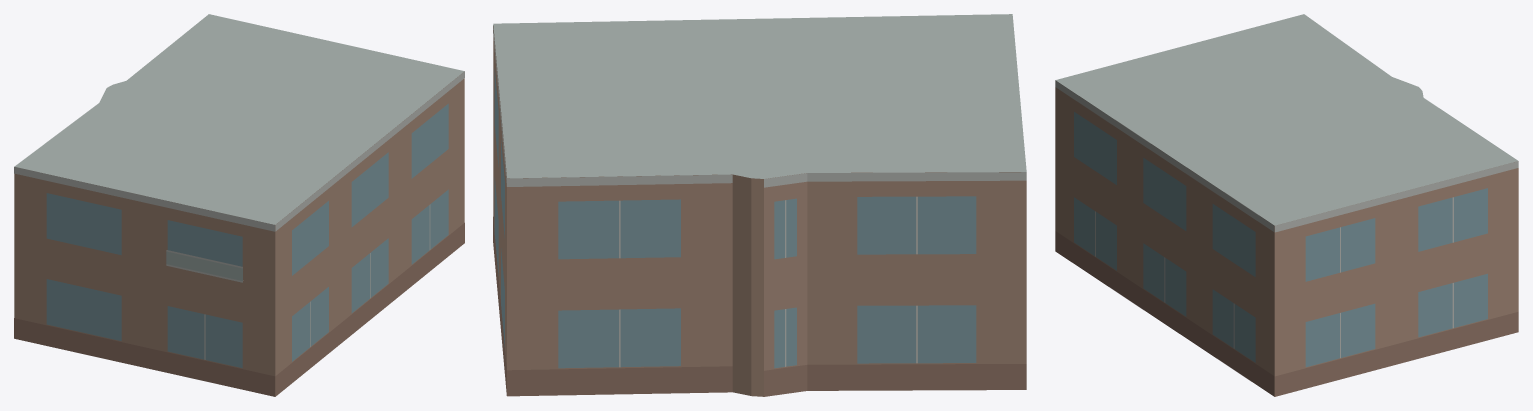
Rendered from survey-upis-32623857.glb.
3 renders of one model, left to right at view 1: azimuth 30°, elevation 25°; view 2: azimuth 150°, elevation 25°; view 3: azimuth 270°, elevation 25°, orthographic. The views are drawn at different scales.
Parts seen in each view (by area): view 1: survey-upis-32623857.tmp; view 2: survey-upis-32623857.tmp; view 3: survey-upis-32623857.tmp.
Part boxes in pixels (x1=…): survey-upis-32623857.tmp: x1=14, y1=14, x2=464, y2=396; survey-upis-32623857.tmp: x1=493, y1=14, x2=1026, y2=396; survey-upis-32623857.tmp: x1=1055, y1=14, x2=1518, y2=396.
Size of the model in its own units: 16.19 by 6.1 by 14.97.
